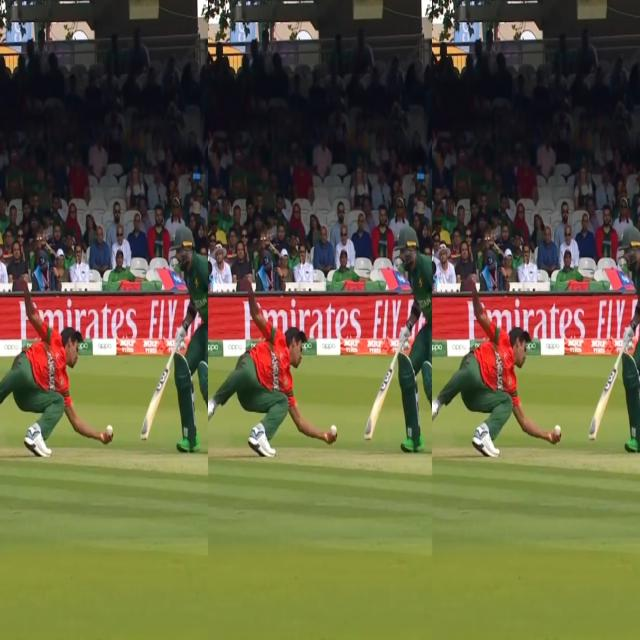ball: (324, 421, 341, 440), (550, 422, 566, 442), (103, 421, 114, 440)
